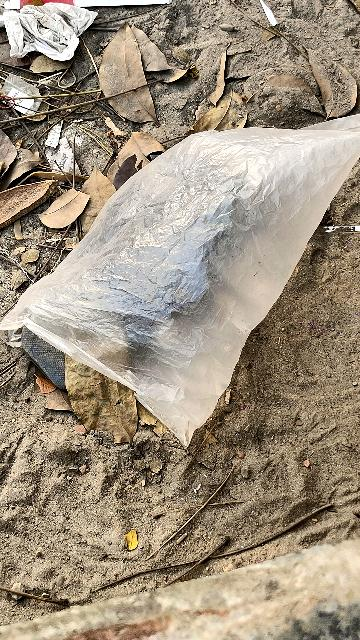polythene: (0, 58, 347, 446)
